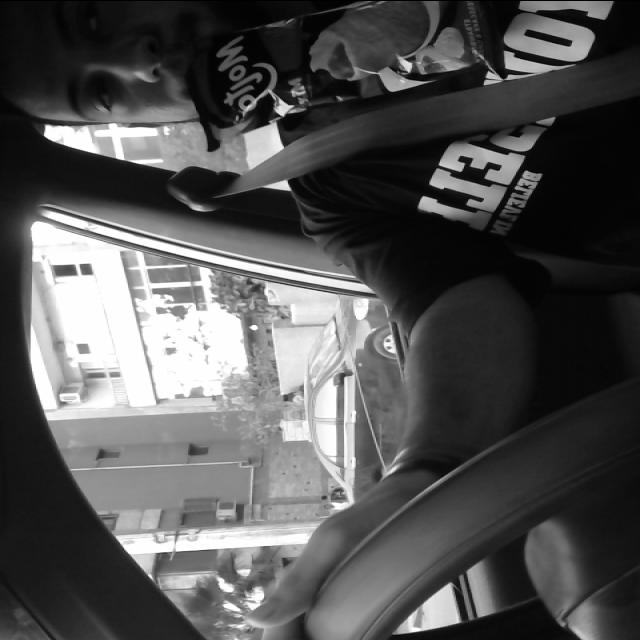eating: (163, 0, 498, 149)
